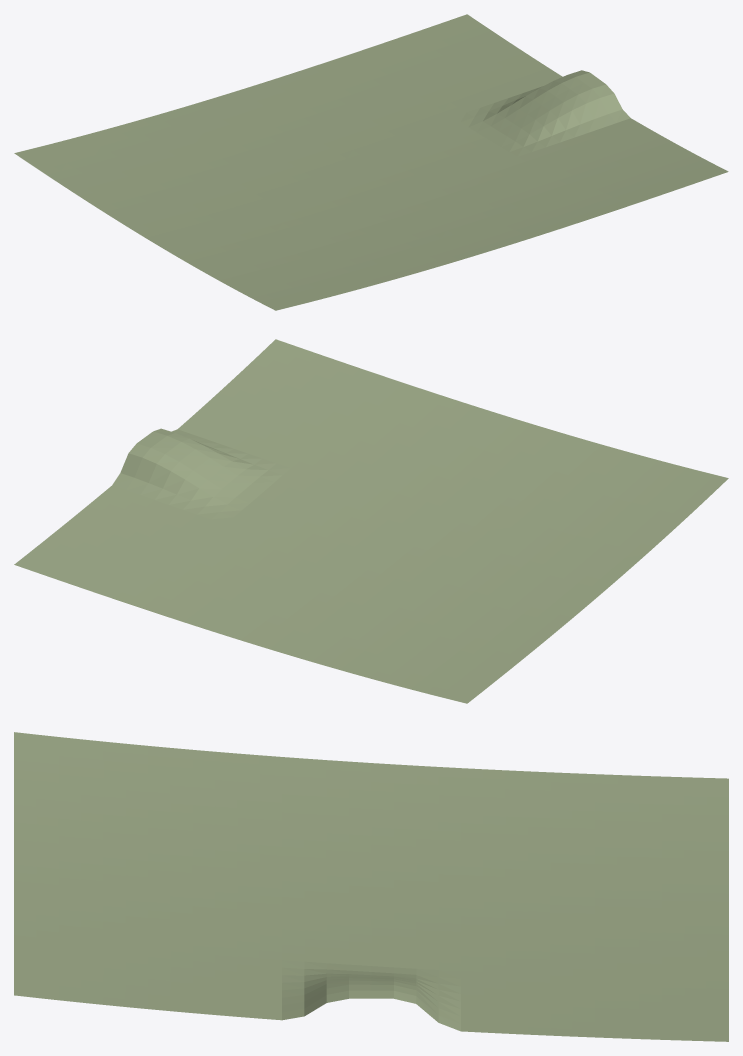
The model's file is valley-0-12.glb.
The picture shows the model from 3 angles, top to bottom: view 1: azimuth 30°, elevation 25°; view 2: azimuth 150°, elevation 25°; view 3: azimuth 270°, elevation 25°; orthographic projection. The views are drawn at different scales.
Parts seen in each view (by area): view 1: valley-0-12; view 2: valley-0-12; view 3: valley-0-12.
Part boxes in pixels (x1,y1,x2,y2): valley-0-12: (14, 14, 728, 310); valley-0-12: (14, 339, 728, 703); valley-0-12: (14, 732, 728, 1041).
Size of the model in its own units: 256 by 33.69 by 256.
